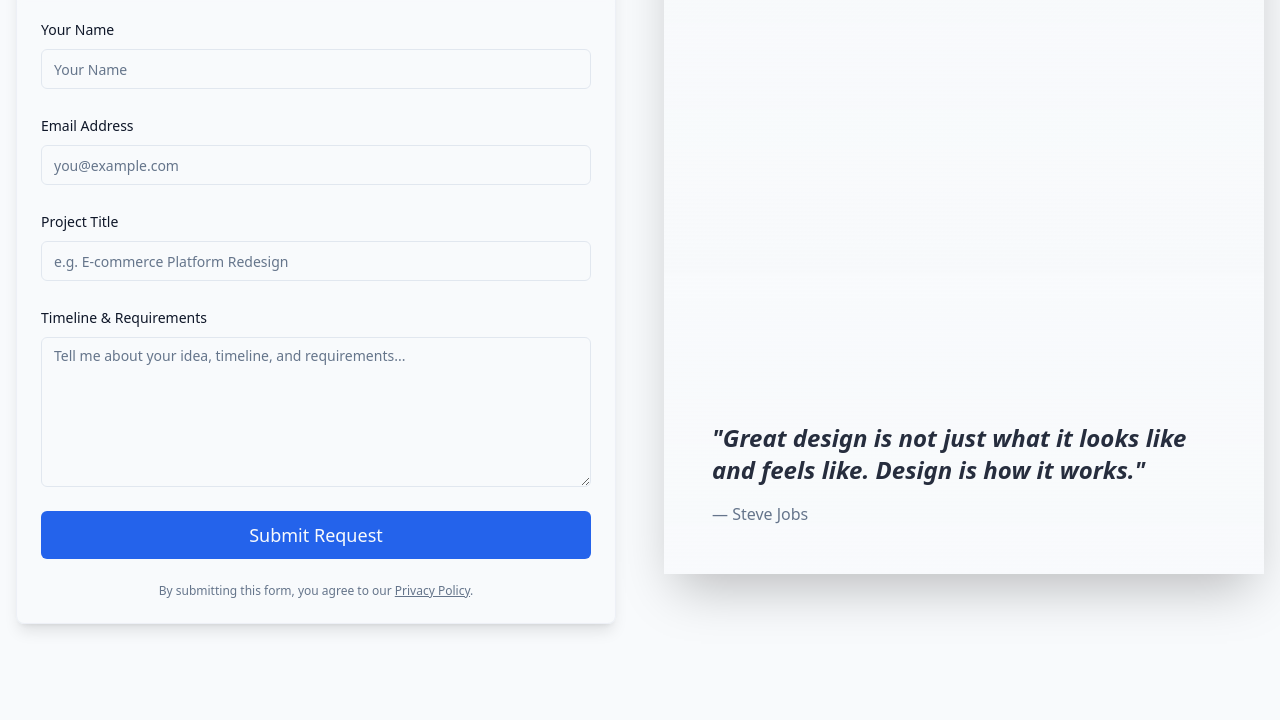
it: WorkWithMePage › validates form inputs
The width and height of the screenshot is (1280, 720).
(page scrolled)
// Submit empty form
What coordinates should you click on to do the following:
click the button "Submit Request"
I would click on:
 (316, 535)
Its box is [41, 511, 591, 559].
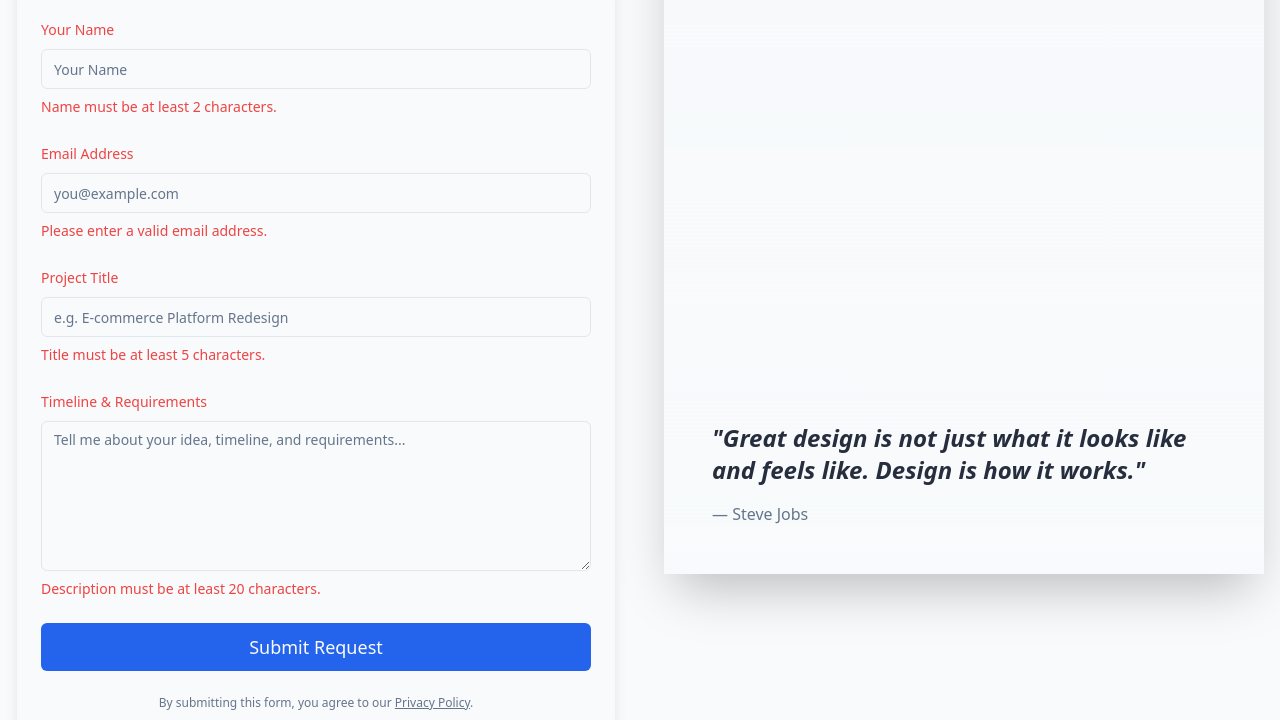
expect the text "Name must be at least 2 characters." is shown: met, box [41, 97, 277, 116]
expect the text "Please enter a valid email address." is shown: met, box [41, 221, 267, 240]
